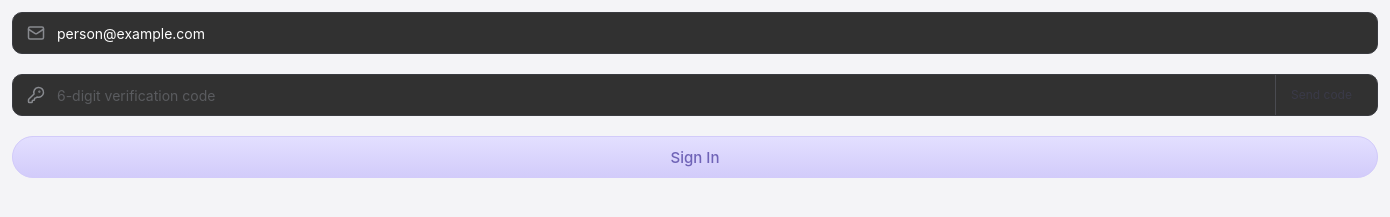
EmailCodeLoginForm › disables sign-in after an incorrect code until six new digits are entered
Click the button with class "email-code-login-form__send" at [1319, 95], box [1275,75,1363,115]
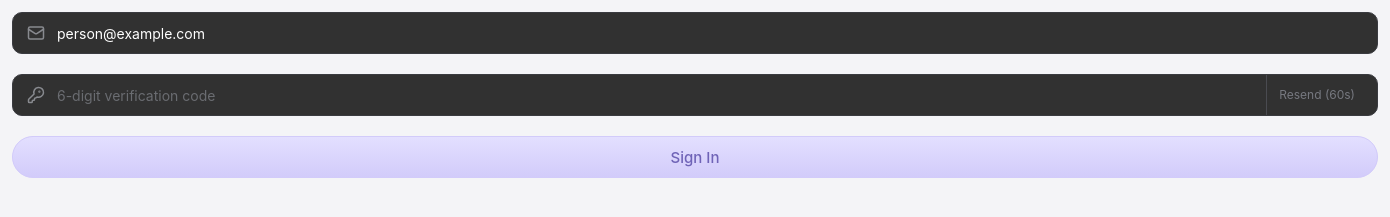
Result: the button with class "email-code-login-form__send" shows "60s" at [1266,75,1363,115]
Type "123456" into the field with id "email-code-login-code" at [662, 95], box [57,76,1266,114]
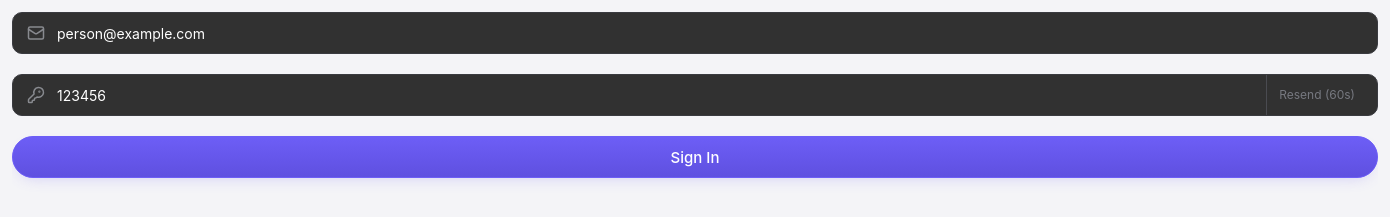
Result: the button with class "submit-btn" is enabled
Click the button with class "submit-btn" at [695, 157], box [12,136,1378,178]
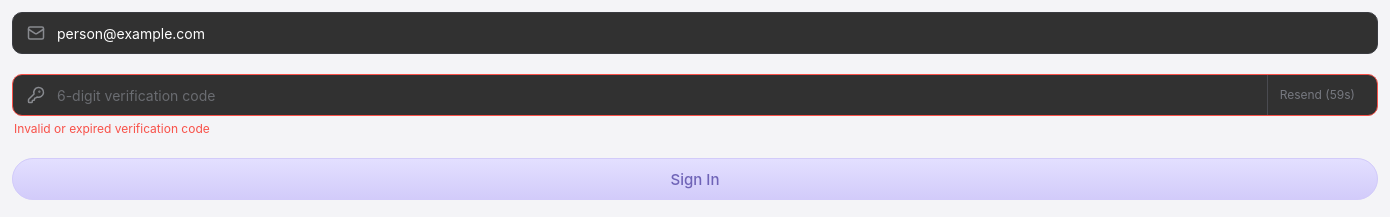
Result: the field with id "email-code-login-code" is empty
Result: the button with class "submit-btn" is disabled at [12,158,1378,200]
Type "654321" into the field with id "email-code-login-code" at [662, 95], box [57,76,1267,114]
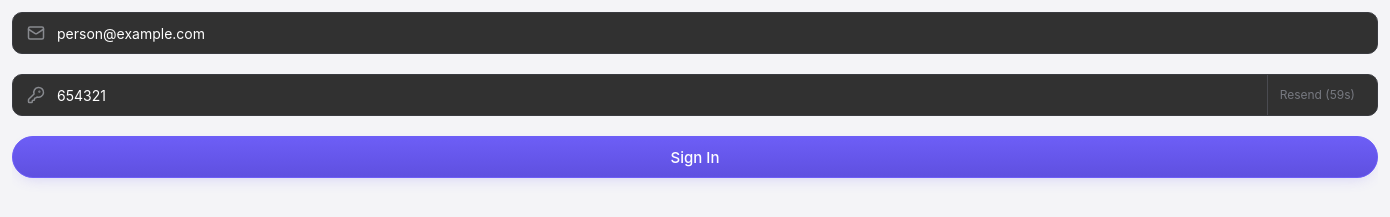
Result: the button with class "submit-btn" is enabled at [12,136,1378,178]
